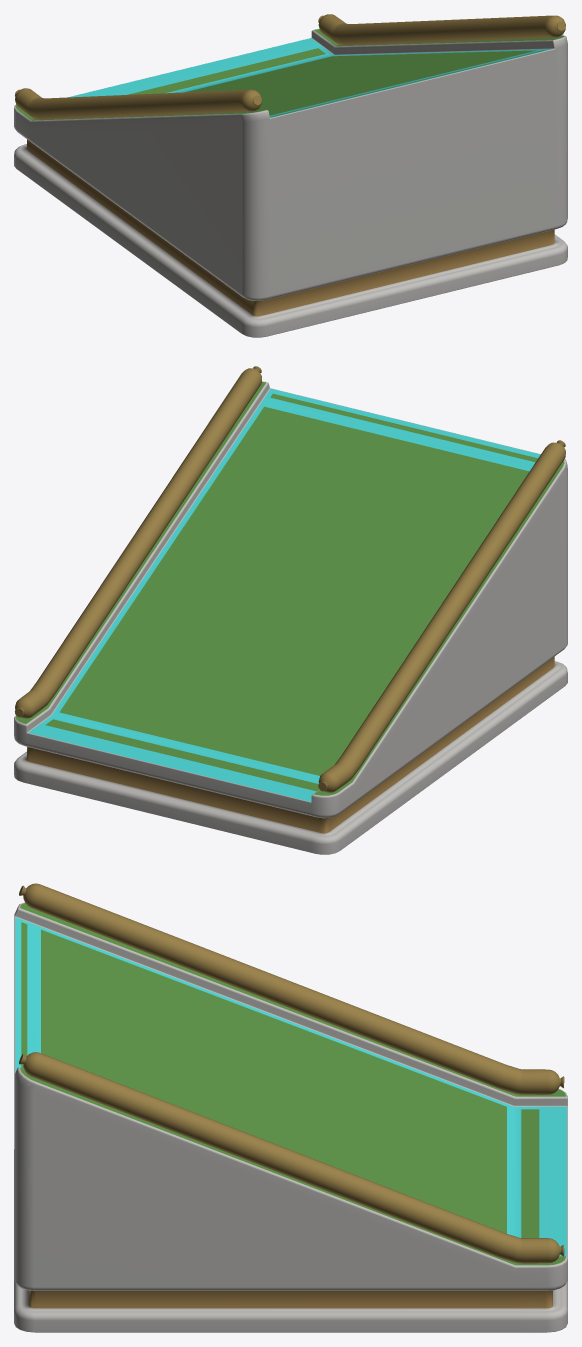
The model's file is SM_Ramp_01.fbx.
3 renders of one model, top to bottom at view 1: azimuth 30°, elevation 25°; view 2: azimuth 150°, elevation 25°; view 3: azimuth 270°, elevation 25°, orthographic. The views are drawn at different scales.
Parts seen in each view (by area): view 1: SM_Ramp_01; view 2: SM_Ramp_01; view 3: SM_Ramp_01.
Part boxes in pixels (x1,y1,x2,y2): SM_Ramp_01: (14,14,567,337); SM_Ramp_01: (14,366,567,854); SM_Ramp_01: (14,883,567,1332).
Size of the model in its own units: 1335 by 949 by 1738.
